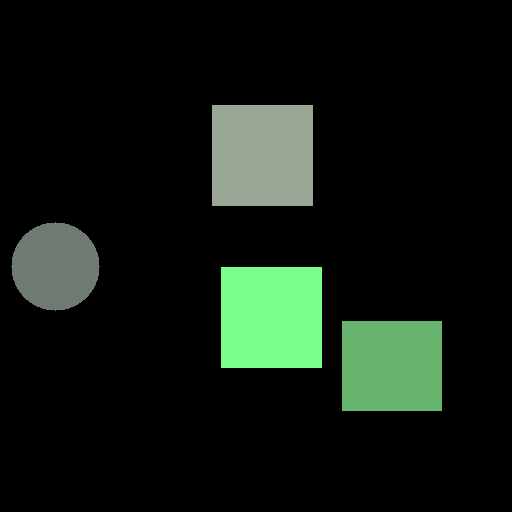circle: (11, 222, 99, 310)
rectangle: (342, 321, 441, 410)
square: (221, 267, 321, 367), (212, 105, 312, 205)
